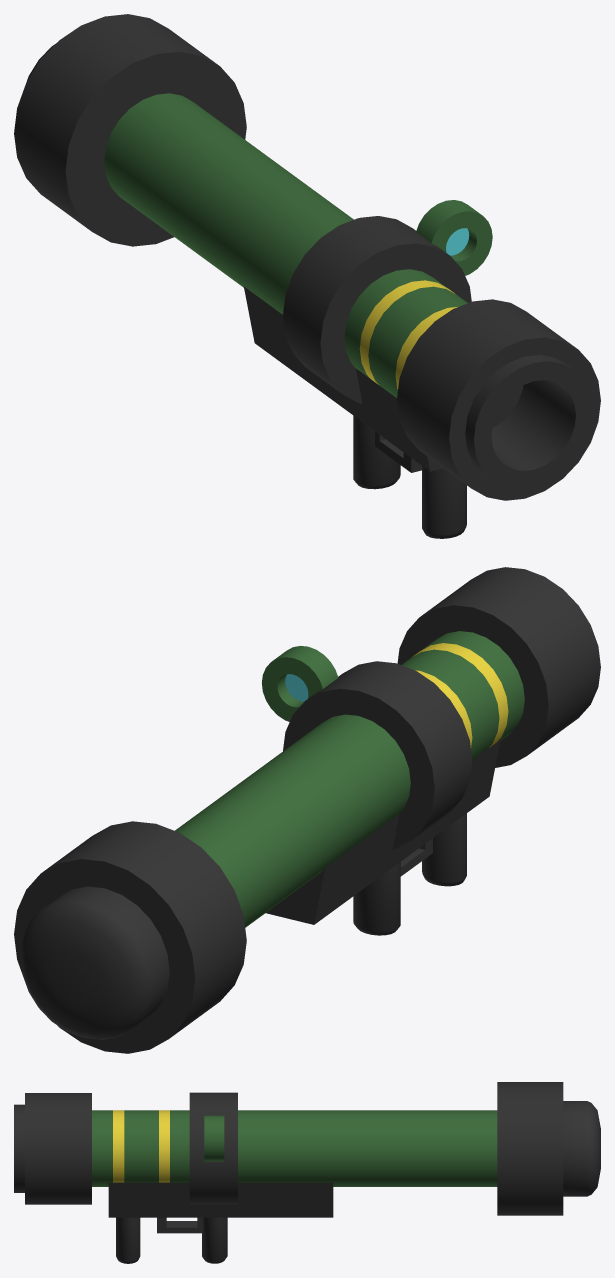
File: Bazooka.fbx
The picture shows the model from 3 angles, top to bottom: view 1: azimuth 30°, elevation 25°; view 2: azimuth 150°, elevation 25°; view 3: azimuth 270°, elevation 25°; orthographic projection. The views are drawn at different scales.
Parts seen in each view (by area): view 1: Cube.003; view 2: Cube.003; view 3: Cube.003.
Part boxes in pixels (box(x1,y1,x2,y2)): Cube.003: box(14, 14, 600, 538); Cube.003: box(14, 567, 600, 1053); Cube.003: box(14, 1082, 600, 1263).
Bounding box in the file's own units: 116 × 151 × 465.
